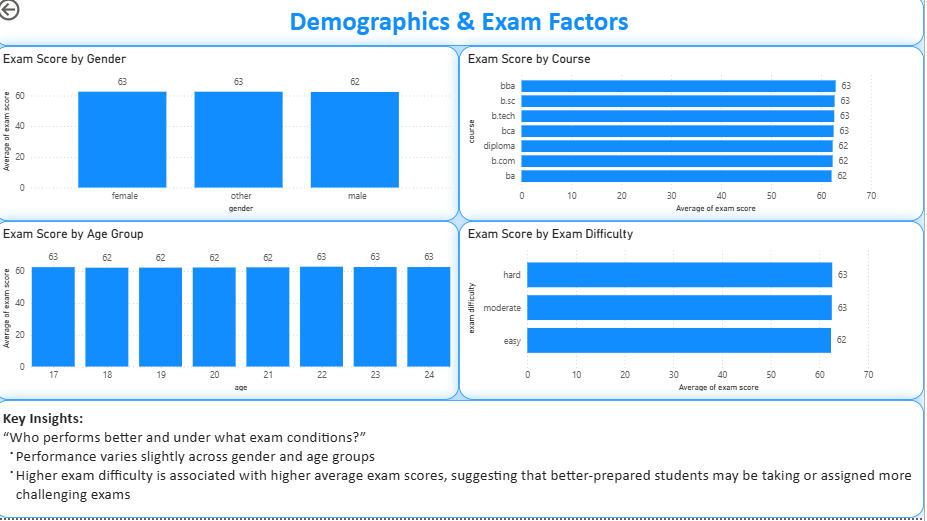

What the dashboard file says about the page in this screenshot:
{"tool":"powerbi","page":{"name":"Page 4","canvas":[1280,720],"ordinal":3},"visuals":[{"type":"textbox","box":[0,0,1280,70.2],"z":0},{"type":"actionButton","box":[0,0,100,40],"z":1000},{"type":"clusteredColumnChart","title":"Exam Score by Gender","fields":{"Y":["Avg(Exam_Score_Prediction.exam score)"],"Category":["Exam_Score_Prediction.gender"]},"box":[0,70.2,640,240.9],"z":2000},{"type":"clusteredColumnChart","title":"Exam Score by Age Group","fields":{"Y":["Avg(Exam_Score_Prediction.exam score)"],"Category":["Exam_Score_Prediction.age"]},"box":[0,311.1,640,246.4],"z":3000},{"type":"clusteredBarChart","title":"Exam Score by Course","fields":{"Y":["Avg(Exam_Score_Prediction.exam score)"],"Category":["Exam_Score_Prediction.course"]},"box":[640,70.2,640,240.9],"z":4000},{"type":"clusteredBarChart","title":"Exam Score by Exam Difficulty","fields":{"Y":["Avg(Exam_Score_Prediction.exam score)"],"Category":["Exam_Score_Prediction.exam difficulty"]},"box":[640,311.1,640,246.4],"z":5000},{"type":"textbox","box":[0,557.4,1280,162.4],"z":6000}]}

Visuals, with their boxes in screenshot pixels (x1, y1, x2, y2), scaled from the page's 1280x720 canvas onto the 927x521 screenshot:
textbox: region(0, 0, 926, 51)
actionButton: region(0, 0, 72, 29)
"Exam Score by Gender" clusteredColumnChart: region(0, 51, 464, 225)
"Exam Score by Age Group" clusteredColumnChart: region(0, 225, 464, 403)
"Exam Score by Course" clusteredBarChart: region(464, 51, 926, 225)
"Exam Score by Exam Difficulty" clusteredBarChart: region(464, 225, 926, 403)
textbox: region(0, 403, 926, 520)
